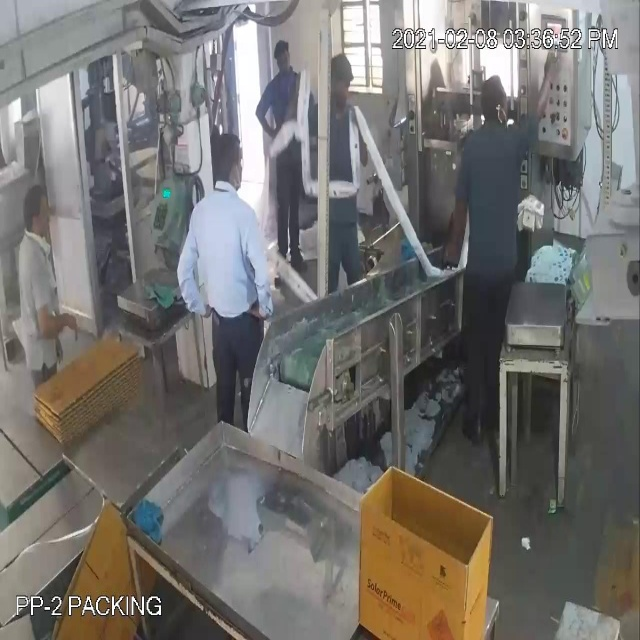Sin_guantes: (242, 219, 278, 331), (33, 287, 87, 350), (174, 235, 210, 328), (526, 49, 562, 132), (441, 176, 472, 268), (256, 93, 281, 145)
